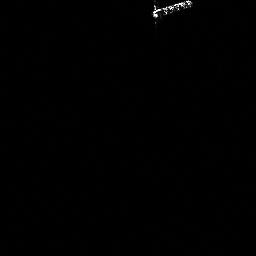ship: (150, 1, 195, 24)
